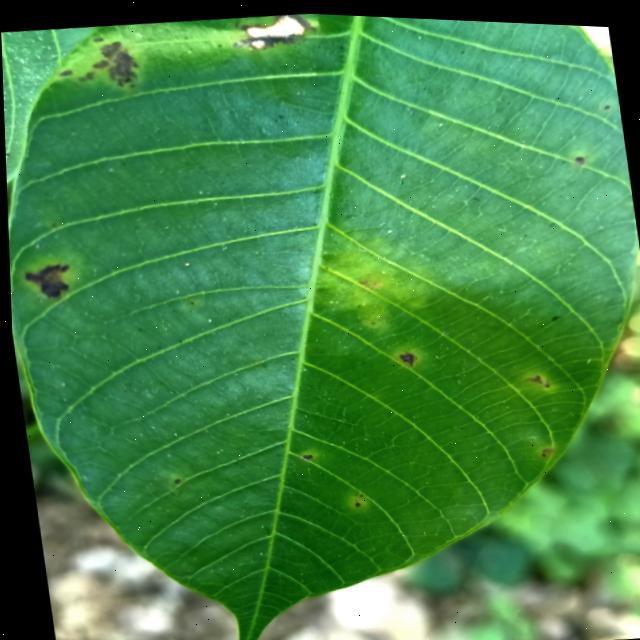Leaf-Blight: (246, 9, 305, 40)
